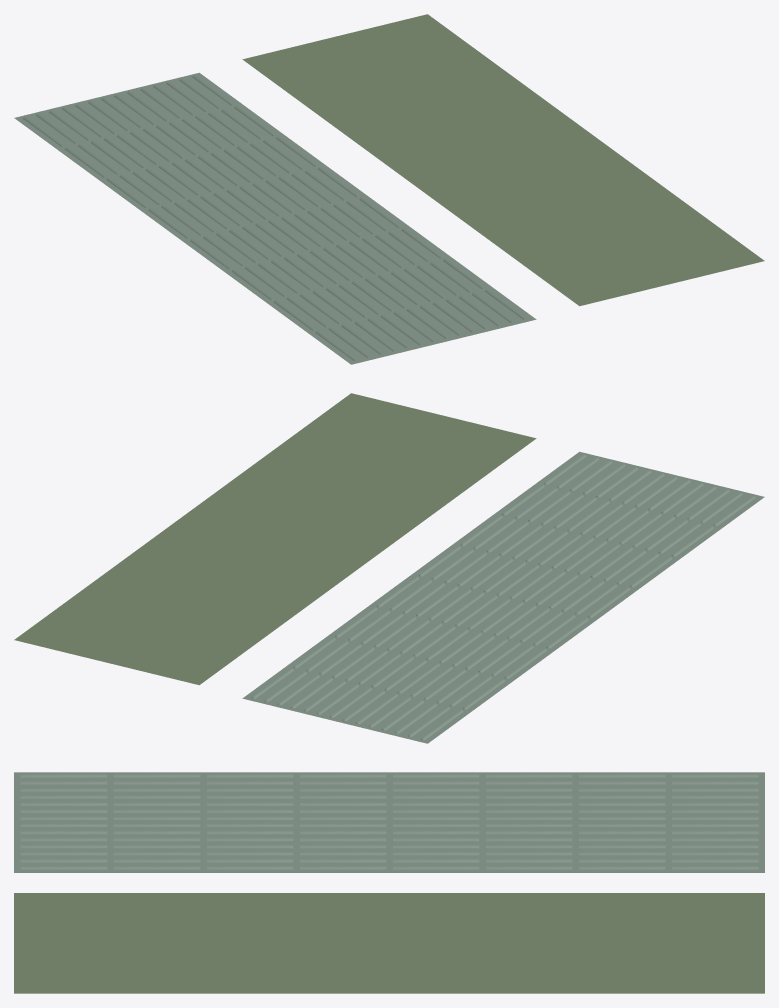
Rendered from walll.glb.
The picture shows the model from 3 angles, top to bottom: view 1: azimuth 30°, elevation 25°; view 2: azimuth 150°, elevation 25°; view 3: azimuth 270°, elevation 25°; orthographic projection. The views are drawn at different scales.
Parts seen in each view (by area): view 1: Cylinder, Plane.001; view 2: Cylinder, Plane.001; view 3: Cylinder, Plane.001.
Part boxes in pixels (x1,y1,x2,y2): Cylinder: (14, 72, 536, 364); Plane.001: (242, 14, 764, 306); Cylinder: (242, 451, 764, 743); Plane.001: (14, 393, 536, 685); Cylinder: (14, 772, 764, 872); Plane.001: (14, 893, 764, 993).
Bounding box in the file's own units: 4.46 × 0.0305 × 6.3.
